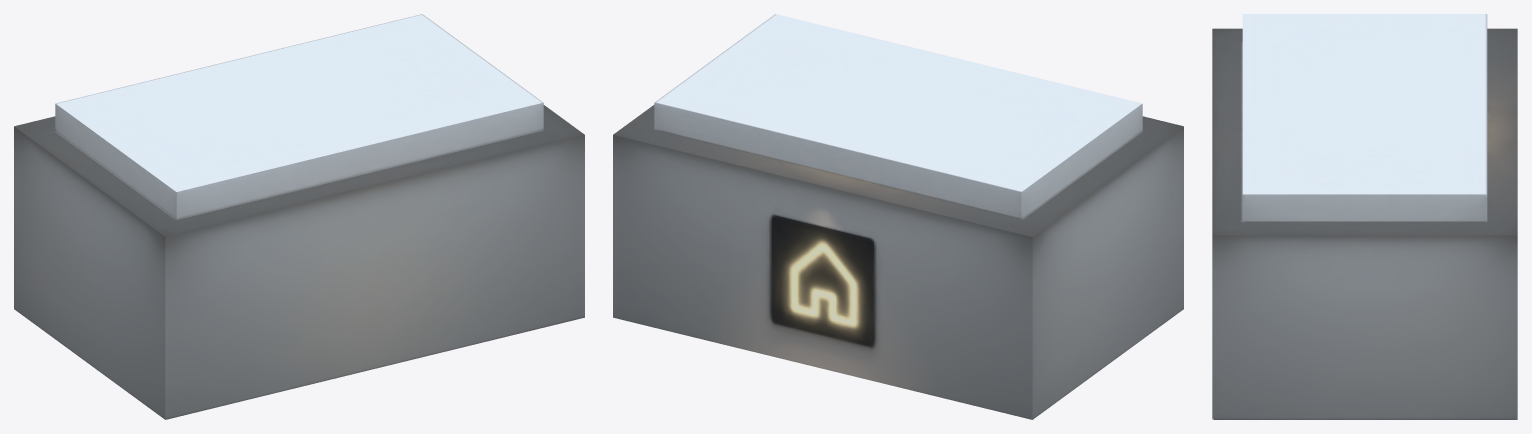
Rendered from RealHomeDefaultWorld.glb.
3 renders of one model, left to right at view 1: azimuth 30°, elevation 25°; view 2: azimuth 150°, elevation 25°; view 3: azimuth 270°, elevation 25°, orthographic.
Visible parts, largest first — view 1: Baked_Merged; view 2: Baked_Merged; view 3: Baked_Merged.
Boxes of the visible parts, x1=… form: Baked_Merged: x1=14, y1=14, x2=584, y2=419; Baked_Merged: x1=613, y1=14, x2=1183, y2=419; Baked_Merged: x1=1212, y1=14, x2=1517, y2=419.
Size of what is drawn, in the model's own units: 8 by 3.83 by 5.
2 materials, 2 textured.
